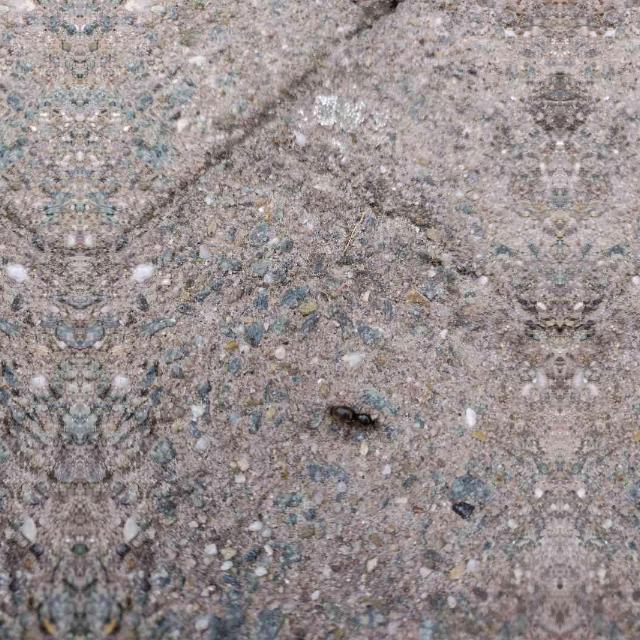Lasius: (320, 394, 384, 444)
